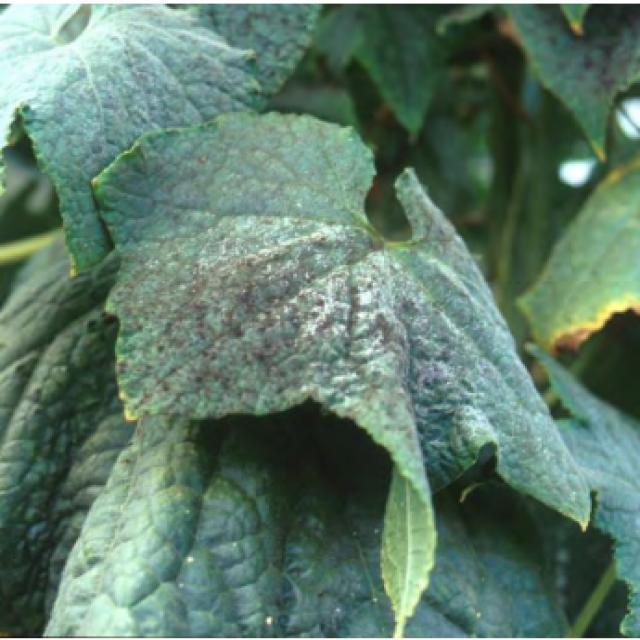Whitefly: (108, 257, 526, 423), (56, 65, 340, 258), (530, 18, 640, 110), (397, 176, 475, 260)
